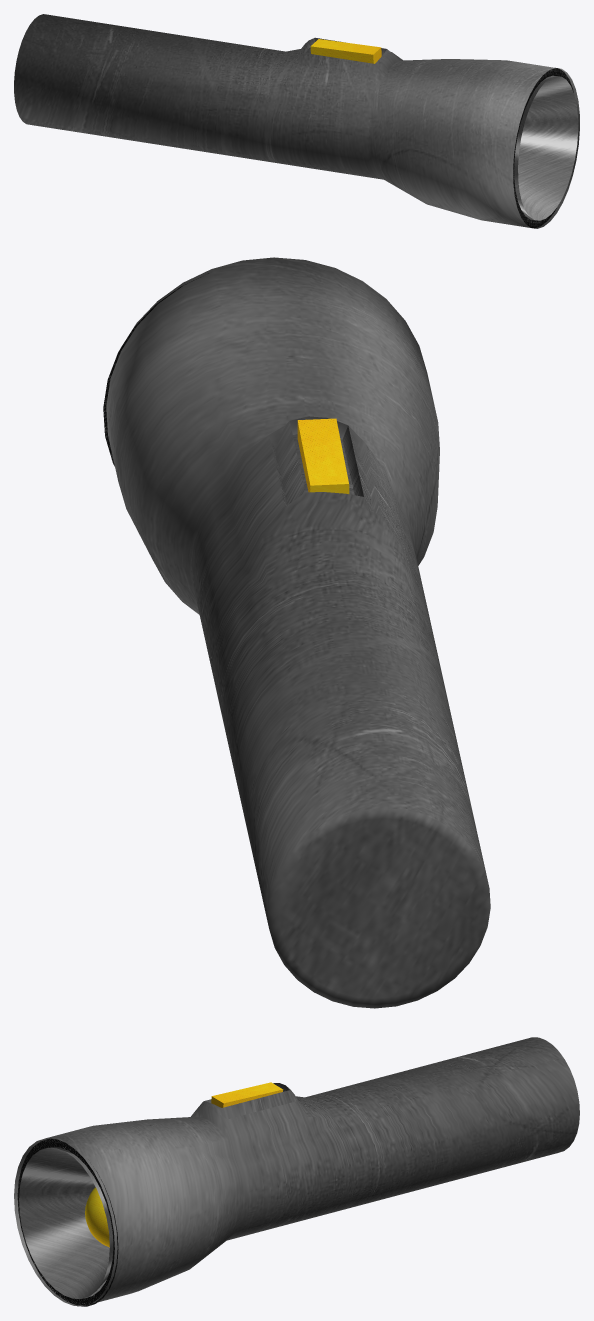
File: FLASHLIGHT-2.fbx
3 renders of one model, top to bottom at view 1: azimuth 30°, elevation 25°; view 2: azimuth 150°, elevation 25°; view 3: azimuth 270°, elevation 25°, orthographic. The views are drawn at different scales.
Parts seen in each view (by area): view 1: group1_pasted__polySurface2; view 2: group1_pasted__polySurface2; view 3: group1_pasted__polySurface2.
Boxes of the visible parts, bbox=[...] form: group1_pasted__polySurface2: bbox=[14, 14, 579, 228]; group1_pasted__polySurface2: bbox=[103, 257, 490, 1008]; group1_pasted__polySurface2: bbox=[14, 1037, 579, 1306].
Bounding box in the file's own units: 4.97 × 1.87 × 6.07.
4 materials, 4 textured.
